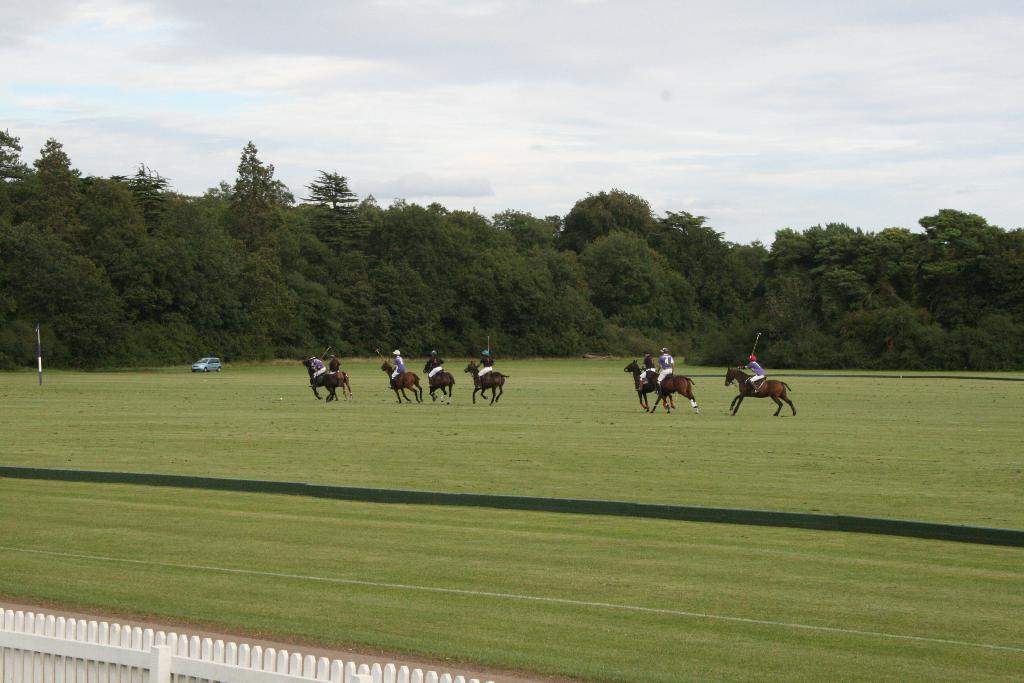Animal: (721, 363, 799, 418), (296, 353, 355, 404), (460, 358, 514, 407), (378, 355, 425, 402)
